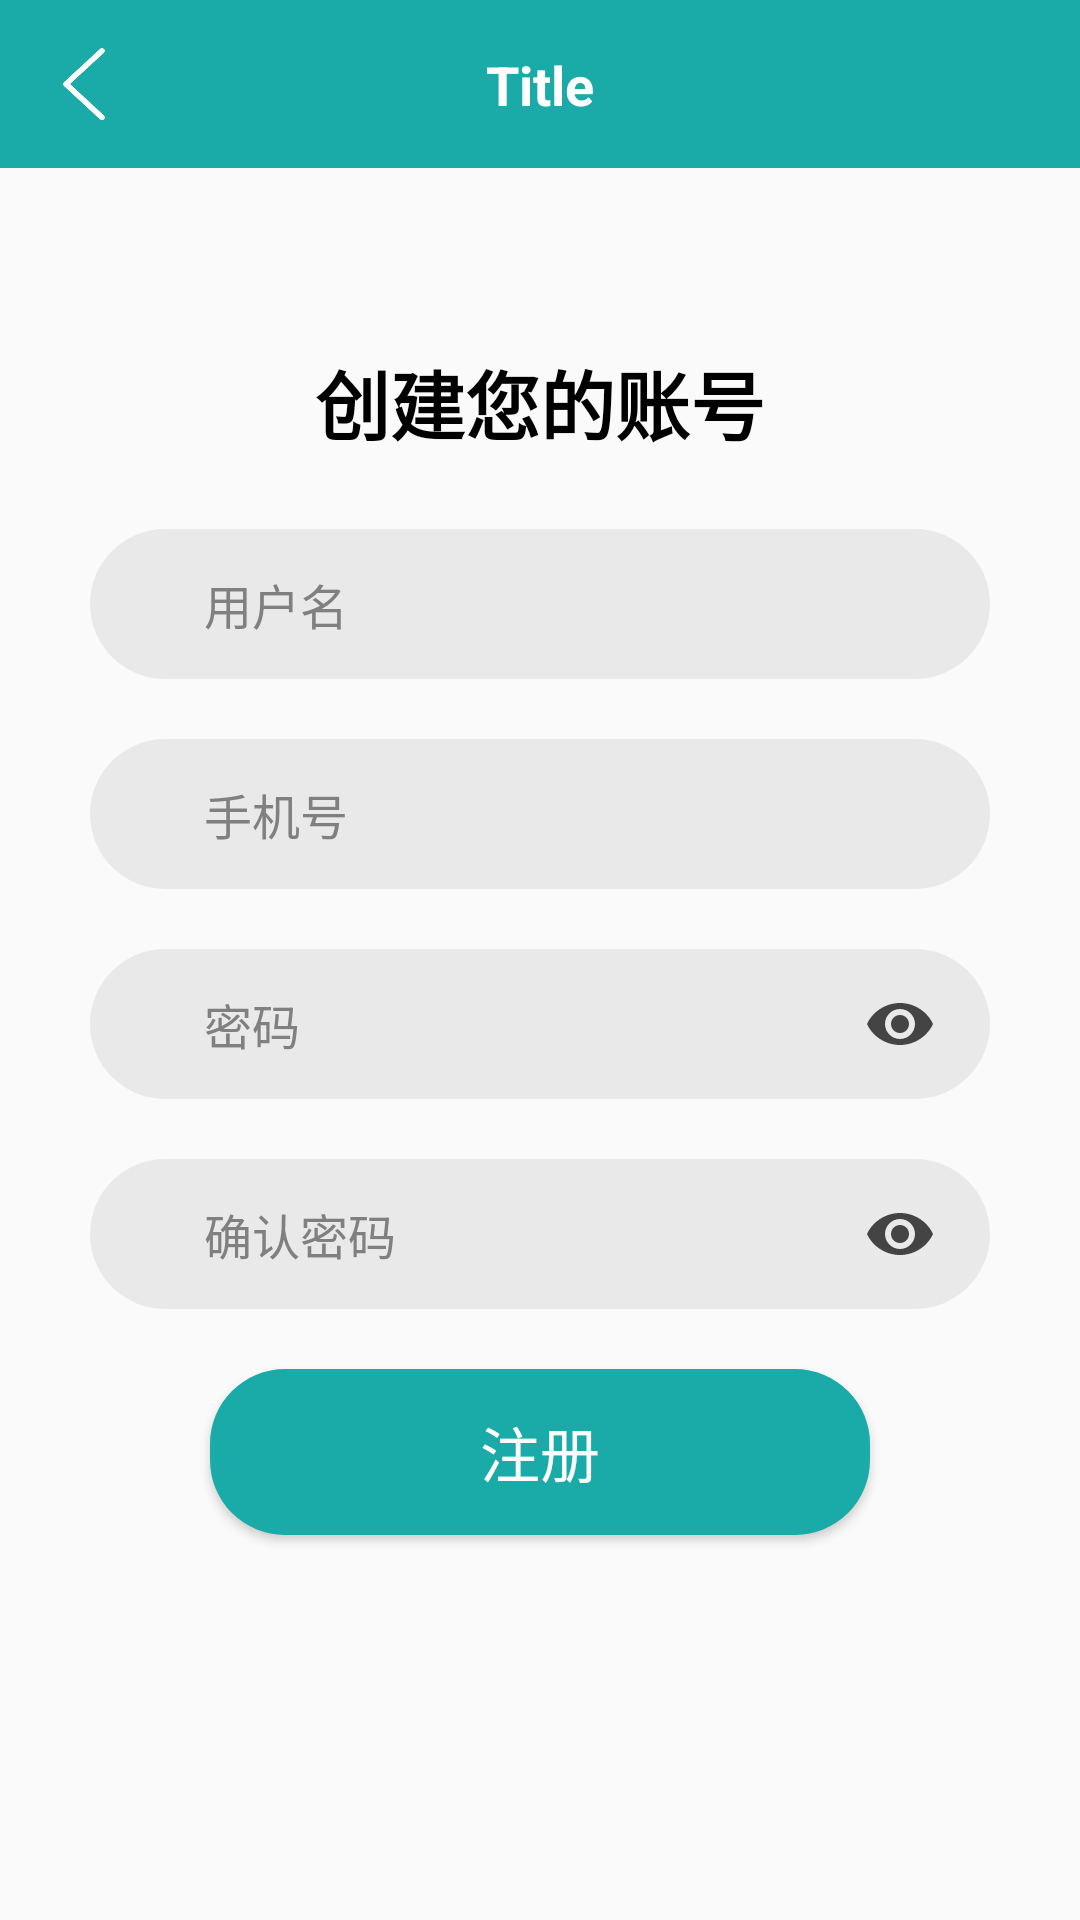

Named icons in this screenshot (1080px×1920px) and their centers, [x,y]:
back: [84,84]
